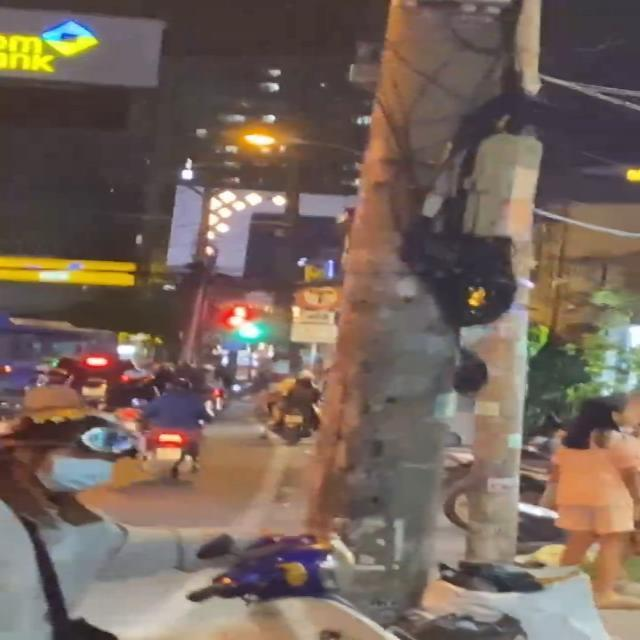137-cam-re-trai-va-re-phai: (290, 280, 342, 312)
